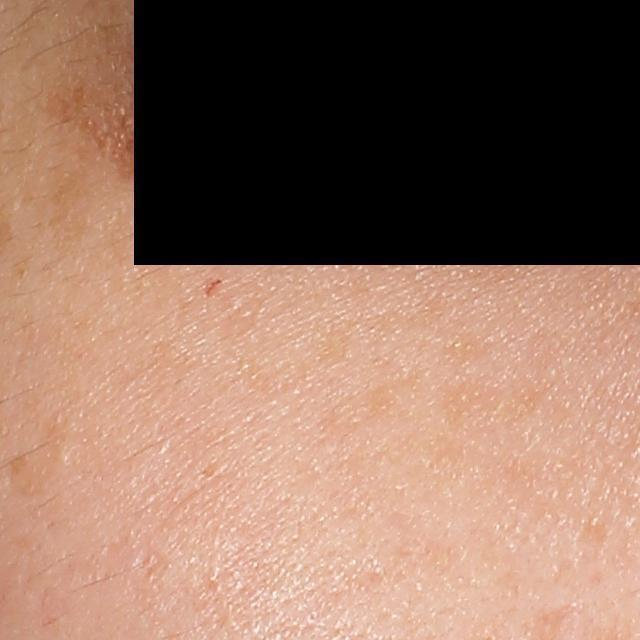melasma: (435, 330, 574, 439), (310, 287, 495, 365), (43, 83, 179, 185), (321, 365, 440, 441)
